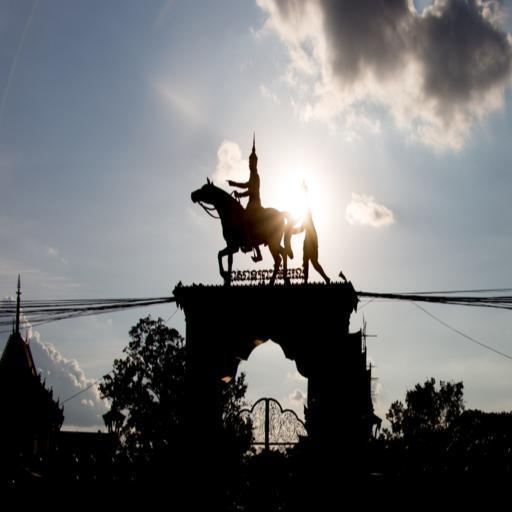horse: (188, 176, 294, 285)
